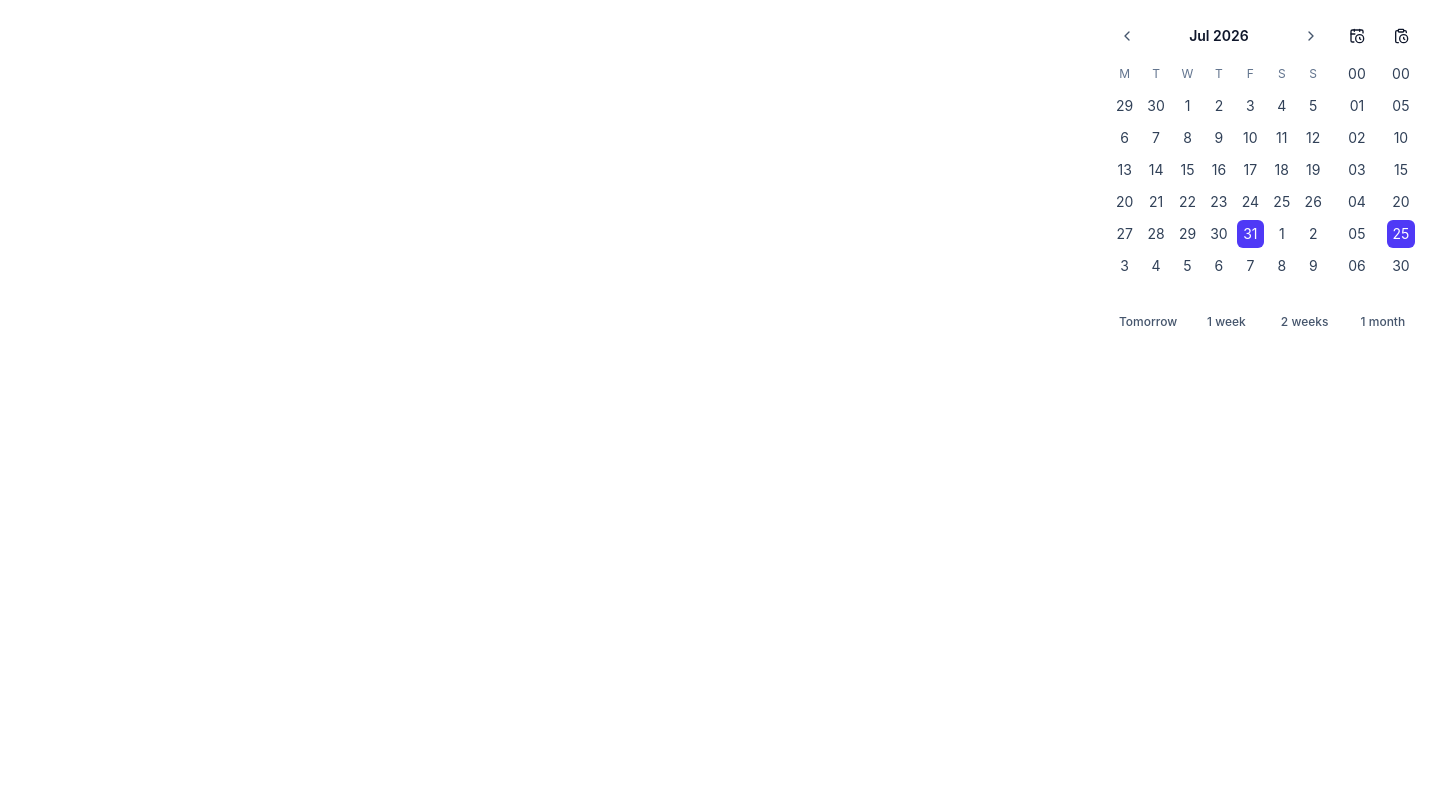
Test case: pending date presets › preserves time, keeps the selector open, and follows the preset month
This screenshot has width=1440, height=810.
Click the button "Tomorrow" at (1148, 322), box [1111,308,1185,336]
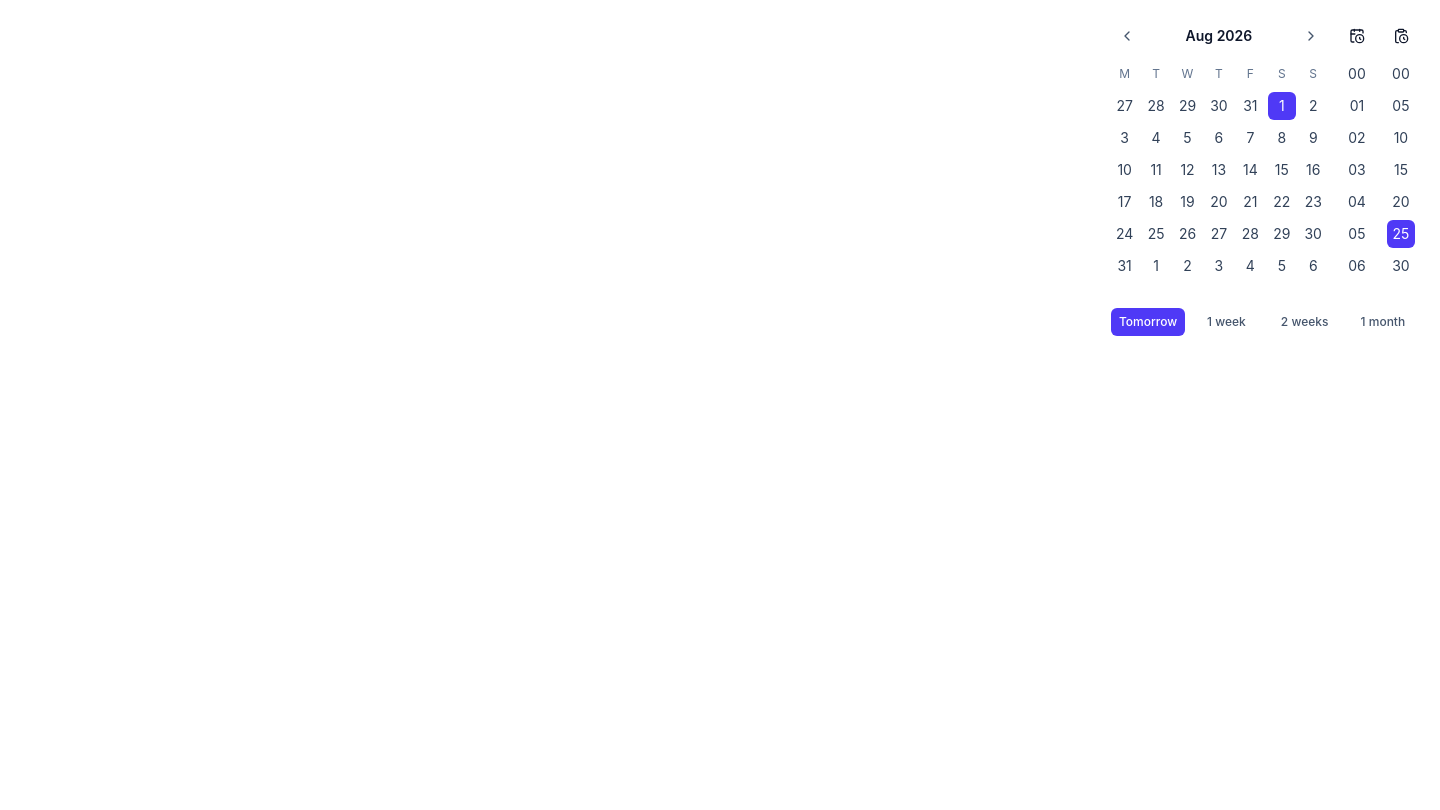
Expected: the dialog is shown, [1099,8,1432,348]
Result: the text "Aug 2026" is shown at [1186,26,1252,46]
